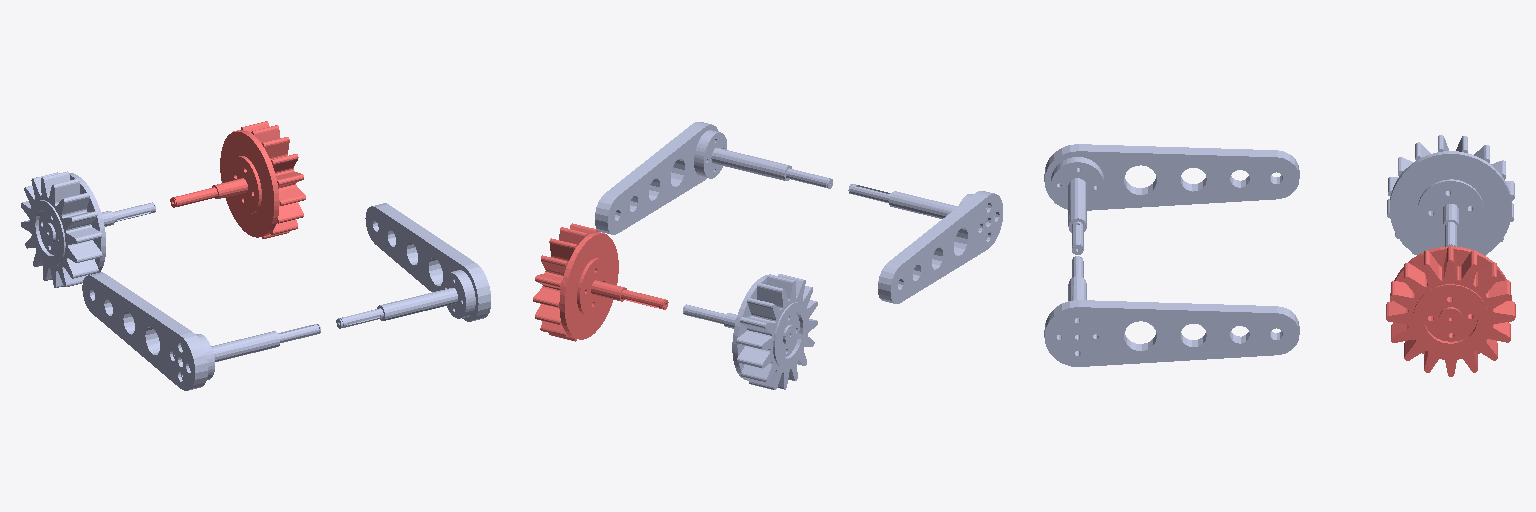
The robot description file, URDF, robot "NIXITO 2026 Robocup.SLDASM":
<?xml version="1.0" encoding="utf-8"?>
<!-- This URDF was automatically created by SolidWorks to URDF Exporter! Originally created by Stephen Brawner (brawner@gmail.com) 
     Commit Version: 1.6.1-13-g25da24a-dirty  Build Version: 1.6.9639.2506
     For more information, please see http://wiki.ros.org/sw_urdf_exporter -->
<robot
  name="NIXITO 2026 Robocup.SLDASM">
  <link
    name="base_link">
    <inertial>
      <origin
        xyz="1.74203879249601E-06 0.000924984355702901 0.115271918962016"
        rpy="0 0 0" />
      <mass
        value="26.4842243859538" />
      <inertia
        ixx="0.284273801710055"
        ixy="2.15975495246338E-05"
        ixz="5.23944662916233E-05"
        iyy="0.0749231218346226"
        iyz="0.00108618565053547"
        izz="0.282843111019656" />
    </inertial>
    <visual>
      <origin
        xyz="0 0 0"
        rpy="0 0 0" />
      <geometry>
        <mesh
          filename="package://NIXITO 2026 Robocup.SLDASM/meshes/base_link.STL" />
      </geometry>
      <material
        name="">
        <color
          rgba="0.792156862745098 0.819607843137255 0.933333333333333 1" />
      </material>
    </visual>
    <collision>
      <origin
        xyz="0 0 0"
        rpy="0 0 0" />
      <geometry>
        <mesh
          filename="package://NIXITO 2026 Robocup.SLDASM/meshes/base_link.STL" />
      </geometry>
    </collision>
  </link>
  <link
    name="flipper_R_link">
    <inertial>
      <origin
        xyz="0.10014 1.019E-05 -0.004882"
        rpy="0 0 0" />
      <mass
        value="0.87584" />
      <inertia
        ixx="0.0009623"
        ixy="-1.7655E-09"
        ixz="-7.6272E-06"
        iyy="0.0085169"
        iyz="8.609E-07"
        izz="0.0085709" />
    </inertial>
    <visual>
      <origin
        xyz="0 0 0"
        rpy="0 0 0" />
      <geometry>
        <mesh
          filename="package://NIXITO 2026 Robocup.SLDASM/meshes/flipper_R_link.STL" />
      </geometry>
      <material
        name="">
        <color
          rgba="0.79216 0.81961 0.93333 1" />
      </material>
    </visual>
    <collision>
      <origin
        xyz="0 0 0"
        rpy="0 0 0" />
      <geometry>
        <mesh
          filename="package://NIXITO 2026 Robocup.SLDASM/meshes/flipper_R_link.STL" />
      </geometry>
    </collision>
  </link>
  <joint
    name="flipper_R_joint"
    type="continuous">
    <origin
      xyz="-0.26555 -0.2705 0.075"
      rpy="-1.5708 -0.015767 1.5708" />
    <parent
      link="base_link" />
    <child
      link="flipper_R_link" />
    <axis
      xyz="0 0 1" />
    <limit
      effort="100"
      velocity="100" />
    <dynamics
      friction="0.1" />
  </joint>
  <link
    name="flipper_L_link">
    <inertial>
      <origin
        xyz="-0.100142561746447 -0.00157919317243563 0.00477588585604338"
        rpy="0 0 0" />
      <mass
        value="0.875836999292697" />
      <inertia
        ixx="0.000964198967977715"
        ixy="-0.000119093228859998"
        ixz="-8.42021776477595E-06"
        iyy="0.00851499178451819"
        iyz="-1.41747140289417E-07"
        izz="0.00857091505917961" />
    </inertial>
    <visual>
      <origin
        xyz="0 0 0"
        rpy="0 0 0" />
      <geometry>
        <mesh
          filename="package://NIXITO 2026 Robocup.SLDASM/meshes/flipper_L_link.STL" />
      </geometry>
      <material
        name="">
        <color
          rgba="0.792156862745098 0.819607843137255 0.933333333333333 1" />
      </material>
    </visual>
    <collision>
      <origin
        xyz="0 0 0"
        rpy="0 0 0" />
      <geometry>
        <mesh
          filename="package://NIXITO 2026 Robocup.SLDASM/meshes/flipper_L_link.STL" />
      </geometry>
    </collision>
  </link>
  <joint
    name="flipper_L_joint"
    type="continuous">
    <origin
      xyz="0.25603 -0.2705 0.075"
      rpy="-1.5708 0 -1.5708" />
    <parent
      link="base_link" />
    <child
      link="flipper_L_link" />
    <axis
      xyz="0 0 1" />
    <limit
      effort="100"
      velocity="100" />
    <dynamics
      friction="0.1" />
  </joint>
  <link
    name="dir_R_link">
    <inertial>
      <origin
        xyz="-5.8014E-06 9.2925E-07 0.030587"
        rpy="0 0 0" />
      <mass
        value="1.3755" />
      <inertia
        ixx="0.0031696"
        ixy="-9.1407E-09"
        ixz="-7.3236E-07"
        iyy="0.0031696"
        iyz="1.1731E-07"
        izz="0.0049163" />
    </inertial>
    <visual>
      <origin
        xyz="0 0 0"
        rpy="0 0 0" />
      <geometry>
        <mesh
          filename="package://NIXITO 2026 Robocup.SLDASM/meshes/dir_R_link.STL" />
      </geometry>
      <material
        name="">
        <color
          rgba="0.79216 0.81961 0.93333 1" />
      </material>
    </visual>
    <collision>
      <origin
        xyz="0 0 0"
        rpy="0 0 0" />
      <geometry>
        <mesh
          filename="package://NIXITO 2026 Robocup.SLDASM/meshes/dir_R_link.STL" />
      </geometry>
    </collision>
  </link>
  <joint
    name="dir_R_joint"
    type="continuous">
    <origin
      xyz="-0.159 0.2925 0.075"
      rpy="1.5708 0.12355 -1.5708" />
    <parent
      link="base_link" />
    <child
      link="dir_R_link" />
    <axis
      xyz="0 0 1" />
    <limit
      effort="100"
      velocity="100" />
    <dynamics
      friction="0.1" />
  </joint>
  <link
    name="dir_L_link">
    <inertial>
      <origin
        xyz="4.8611E-06 -3.2999E-06 0.024587"
        rpy="0 0 0" />
      <mass
        value="1.3755" />
      <inertia
        ixx="0.0031696"
        ixy="-2.7199E-08"
        ixz="6.1366E-07"
        iyy="0.0031696"
        iyz="-4.1657E-07"
        izz="0.0049163" />
    </inertial>
    <visual>
      <origin
        xyz="0 0 0"
        rpy="0 0 0" />
      <geometry>
        <mesh
          filename="package://NIXITO 2026 Robocup.SLDASM/meshes/dir_L_link.STL" />
      </geometry>
      <material
        name="">
        <color
          rgba="1 0.50196 0.50196 1" />
      </material>
    </visual>
    <collision>
      <origin
        xyz="0 0 0"
        rpy="0 0 0" />
      <geometry>
        <mesh
          filename="package://NIXITO 2026 Robocup.SLDASM/meshes/dir_L_link.STL" />
      </geometry>
    </collision>
  </link>
  <joint
    name="dir_L_joint"
    type="continuous">
    <origin
      xyz="0.165 0.2925 0.075"
      rpy="-1.5708 0.042578 -1.5708" />
    <parent
      link="base_link" />
    <child
      link="dir_L_link" />
    <axis
      xyz="0 0 1" />
    <limit
      effort="100"
      velocity="100" />
    <dynamics
      friction="0.1" />
  </joint>
</robot>

--- What the picture shows (computed from the rendered views, not written in the file) ---
The picture shows the robot from 3 angles, left to right: view 1: azimuth 30°, elevation 25°; view 2: azimuth 150°, elevation 25°; view 3: azimuth 270°, elevation 25°; orthographic projection.
Model NIXITO 2026 Robocup.SLDASM with 5 links and 4 joints (4 continuous), rooted at base_link, posed all joints at 0.
Visible links, largest first — view 1: flipper_R_link, flipper_L_link, dir_L_link, dir_R_link; view 2: flipper_L_link, dir_R_link, dir_L_link, flipper_R_link; view 3: flipper_R_link, flipper_L_link, dir_L_link, dir_R_link.
Link boxes in pixels (box(x1,y1,x2,y2)): flipper_R_link: box(82, 272, 320, 390); flipper_L_link: box(336, 203, 490, 328); dir_L_link: box(170, 121, 305, 238); dir_R_link: box(21, 171, 155, 287); flipper_L_link: box(595, 122, 832, 234); dir_R_link: box(683, 274, 817, 389); dir_L_link: box(533, 223, 668, 341); flipper_R_link: box(848, 184, 1002, 303); flipper_R_link: box(1044, 144, 1299, 254); flipper_L_link: box(1044, 256, 1299, 366); dir_L_link: box(1386, 246, 1515, 376); dir_R_link: box(1387, 135, 1514, 255).
Size in the robot's own frame: 0.5819 by 0.7106 by 0.1952 metres.
4 mesh visuals loaded from 5 distinct referenced files (4 binary STL); not drawn: 1 (reference not matched to a file when rendering).
